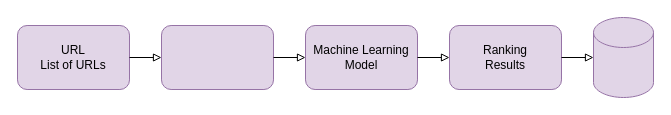
This 671x115 diagram has some shape labels left out. Here are the shapes that lost their labels. From the top down, the centre of each, then its label:
At (217,57): "Keyword Extraction".
At (623,57): "DB".
